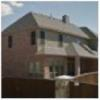chimneys: (61, 13, 70, 24)
